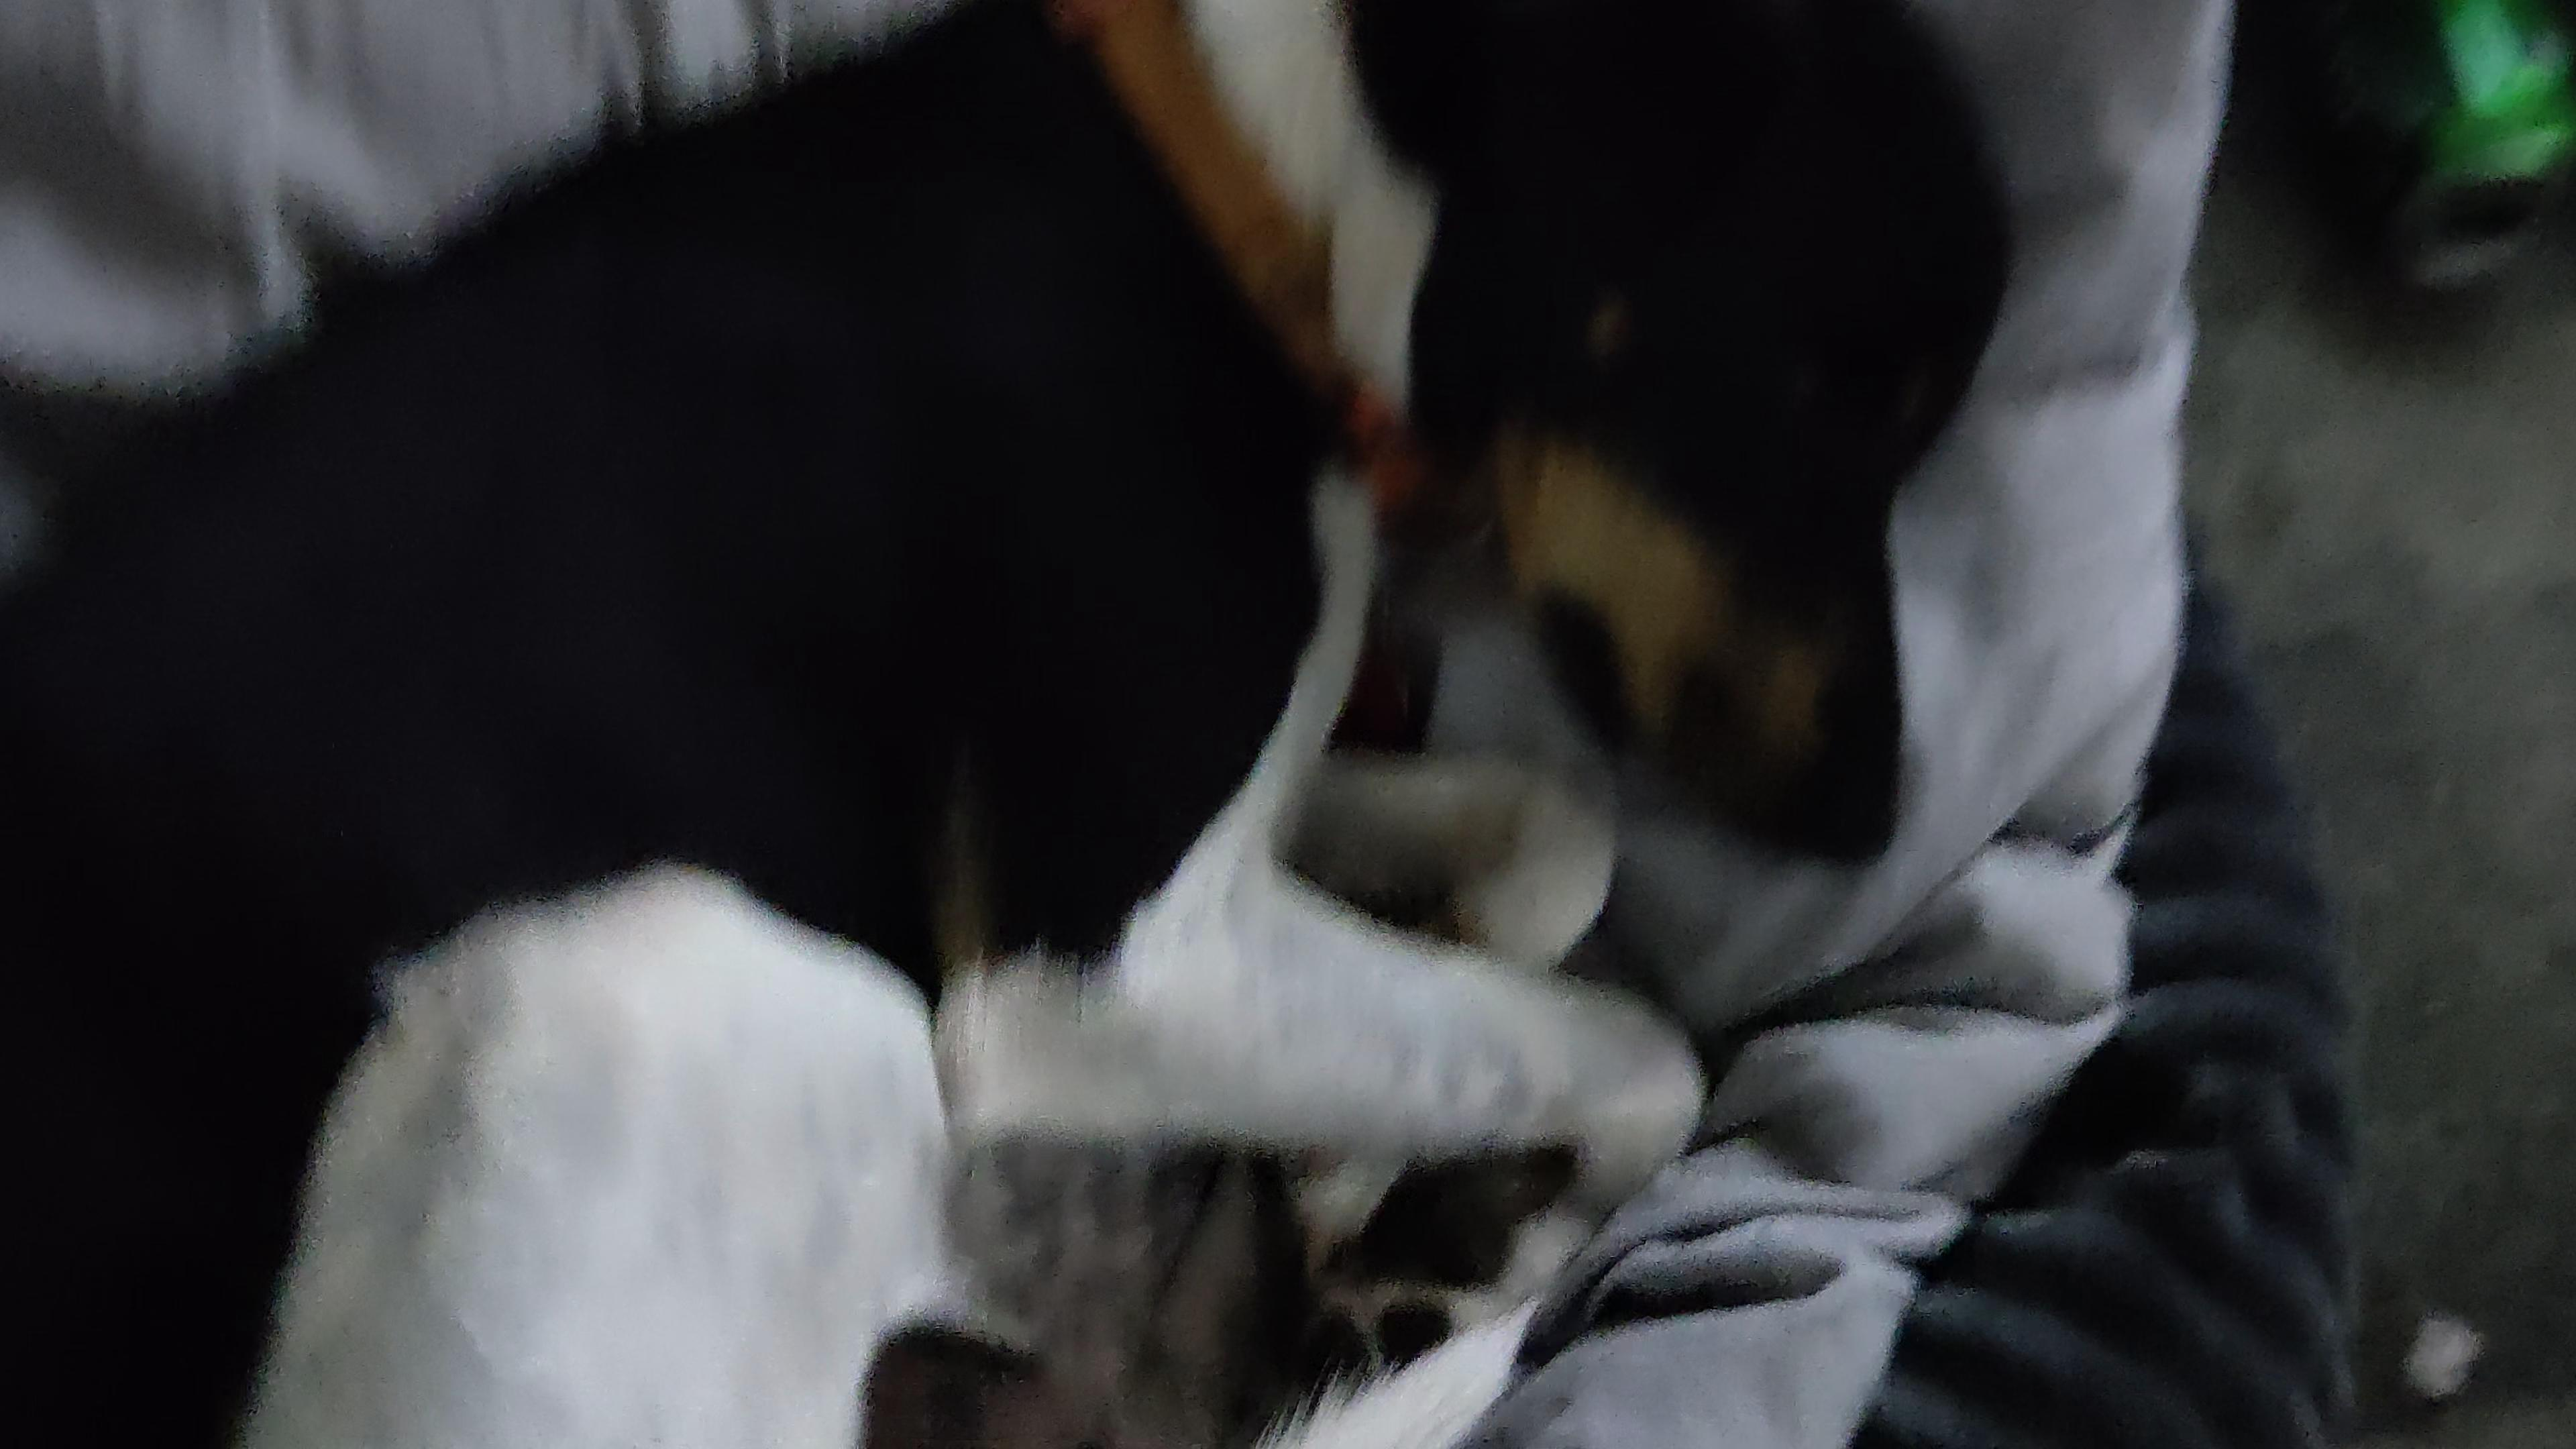Dog: (0, 0, 2038, 1449)
